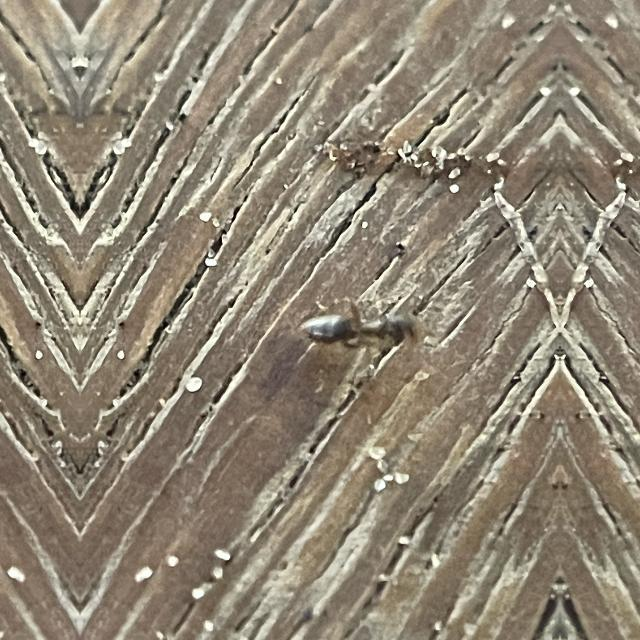Tapinoma: (302, 304, 434, 362)
